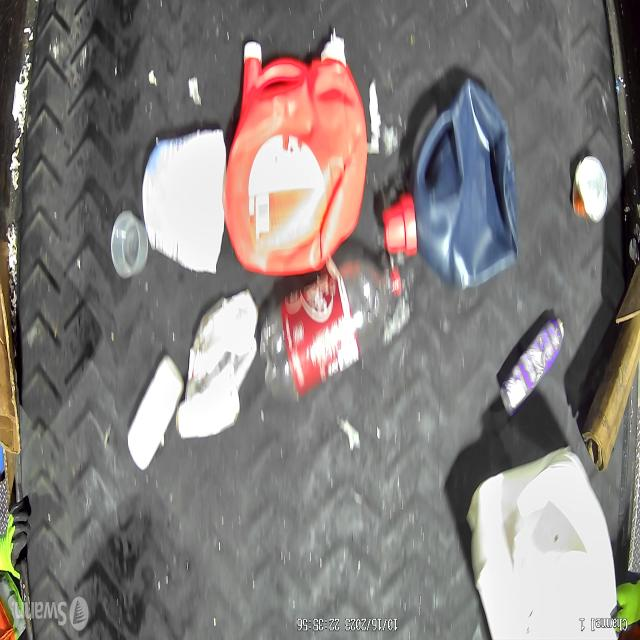can: (499, 316, 565, 417), (572, 154, 608, 226)
milk_jug: (466, 445, 619, 640)
non_white_jug: (229, 46, 365, 270), (382, 79, 517, 288)
plastic_bottle: (258, 258, 402, 404)
